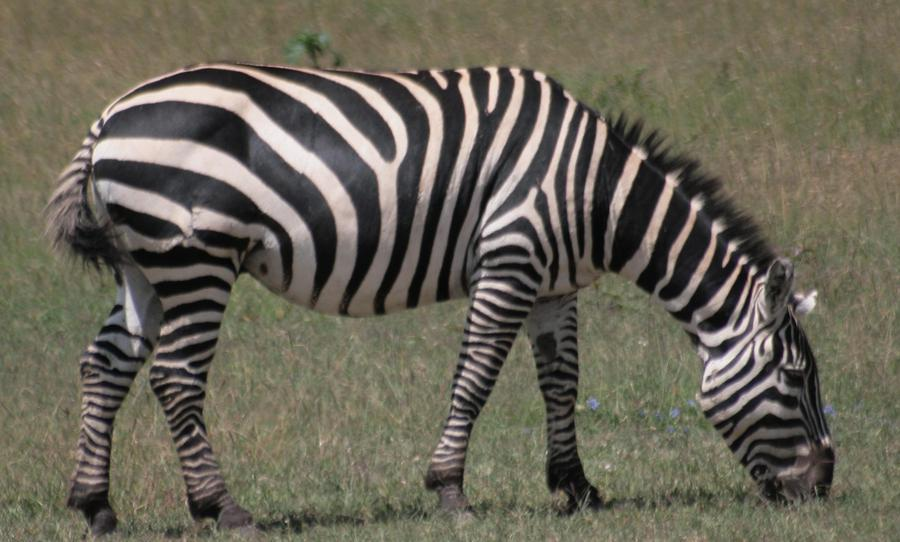zebra_plains: (105, 43, 585, 314)
